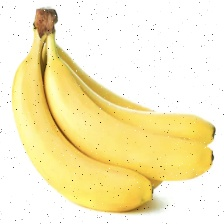banana: (20, 32, 193, 207)
